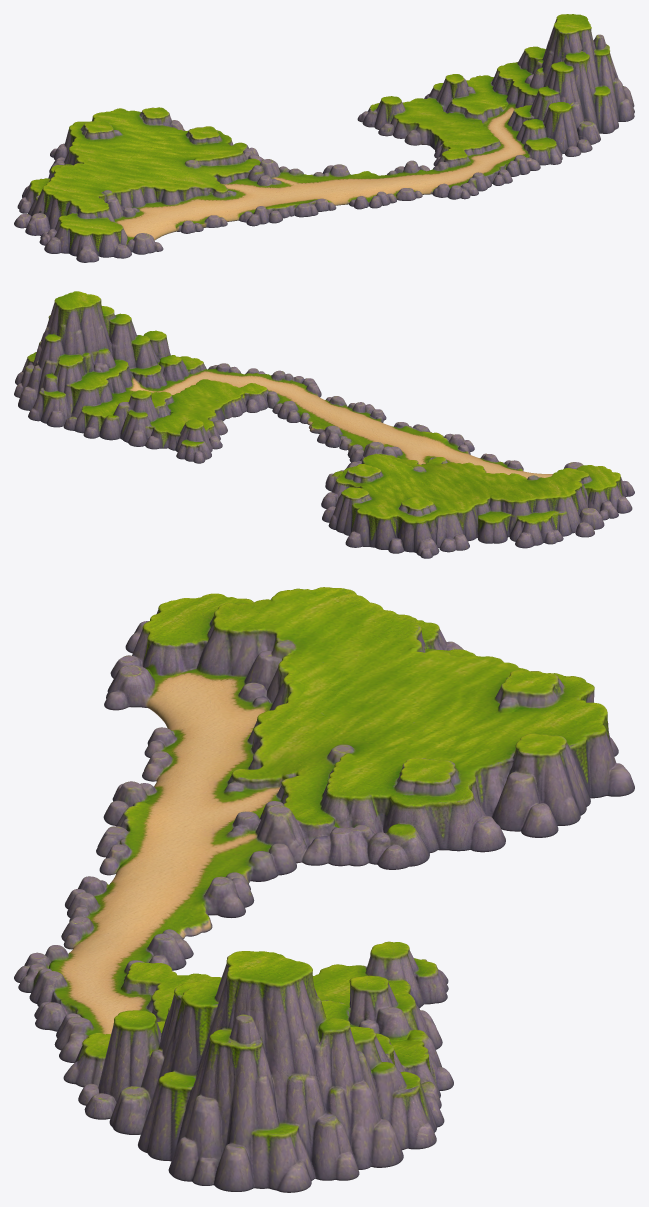
Rendered from large-mountain-with-jeyti-connector-01.glb.
3 views of the same model, one above another, from view 1: azimuth 30°, elevation 25°; view 2: azimuth 150°, elevation 25°; view 3: azimuth 270°, elevation 25° (orthographic). The views are drawn at different scales.
Bounding box in the file's own units: 1.9 × 0.2716 × 0.8744.
Materials: 1 (1 with a texture image).
